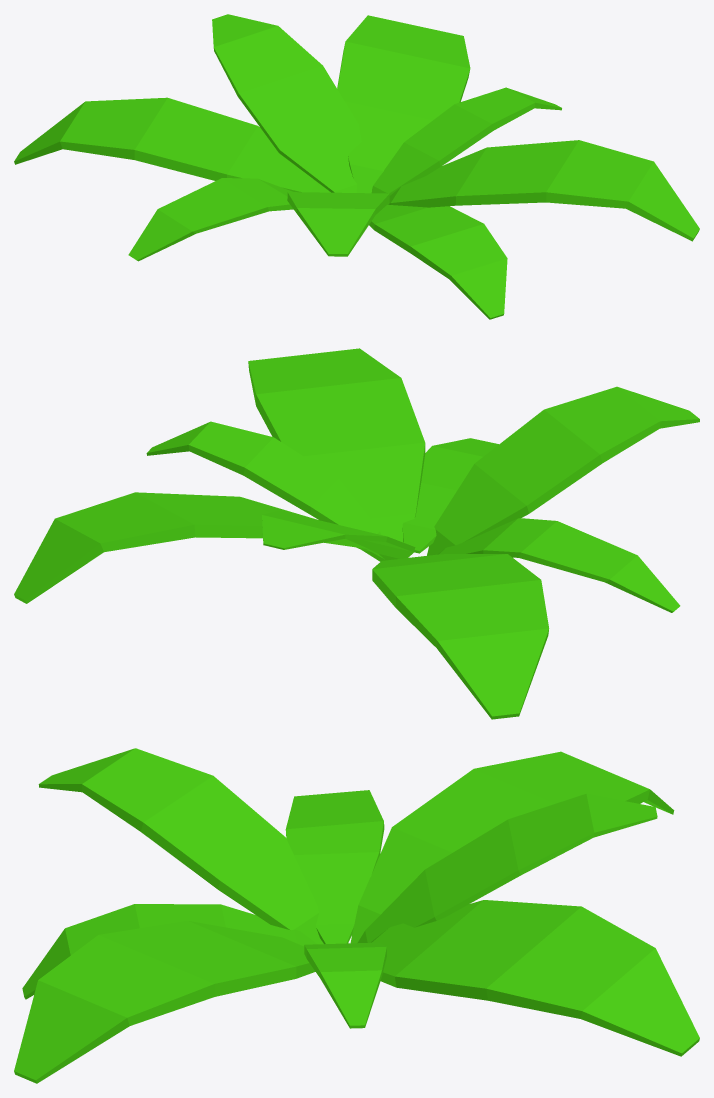
Rendered from plant_3.gltf.
The picture shows the model from 3 angles, top to bottom: view 1: azimuth 30°, elevation 25°; view 2: azimuth 150°, elevation 25°; view 3: azimuth 270°, elevation 25°; orthographic projection. The views are drawn at different scales.
Parts seen in each view (by area): view 1: Plant_3; view 2: Plant_3; view 3: Plant_3.
Part boxes in pixels (x1,y1,x2,y2): Plant_3: (14, 14, 699, 319); Plant_3: (14, 348, 699, 719); Plant_3: (14, 748, 699, 1083).
Bounding box in the file's own units: 139 × 37.72 × 142.
